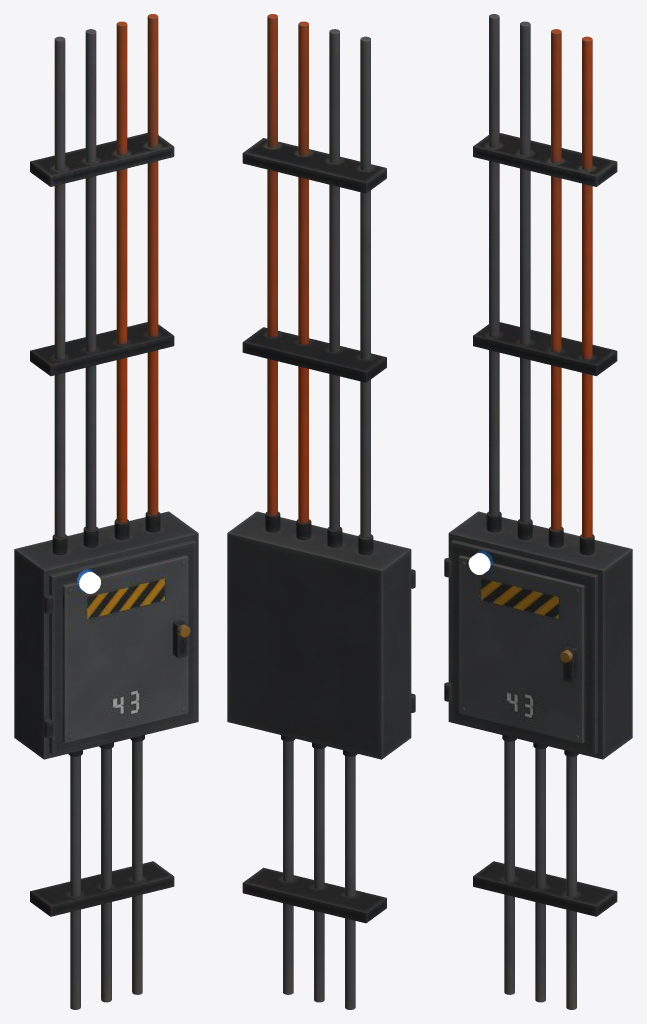
Rendered from junction_box.glb.
3 renders of one model, left to right at view 1: azimuth 30°, elevation 25°; view 2: azimuth 150°, elevation 25°; view 3: azimuth 330°, elevation 25°, orthographic.
Parts seen in each view (by area): view 1: junction_box; view 2: junction_box; view 3: junction_box.
Part boxes in pixels (x1,y1,x2,y2): junction_box: [14, 14, 198, 1009]; junction_box: [227, 14, 415, 1009]; junction_box: [444, 14, 632, 1009].
Size of the model in its own units: 0.6049 by 3.6 by 0.285.
2 materials, 2 textured.
